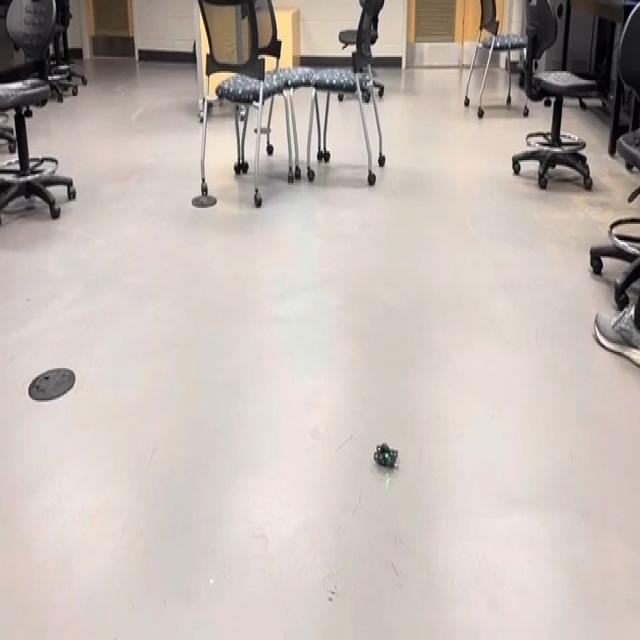drone: (364, 424, 405, 482)
